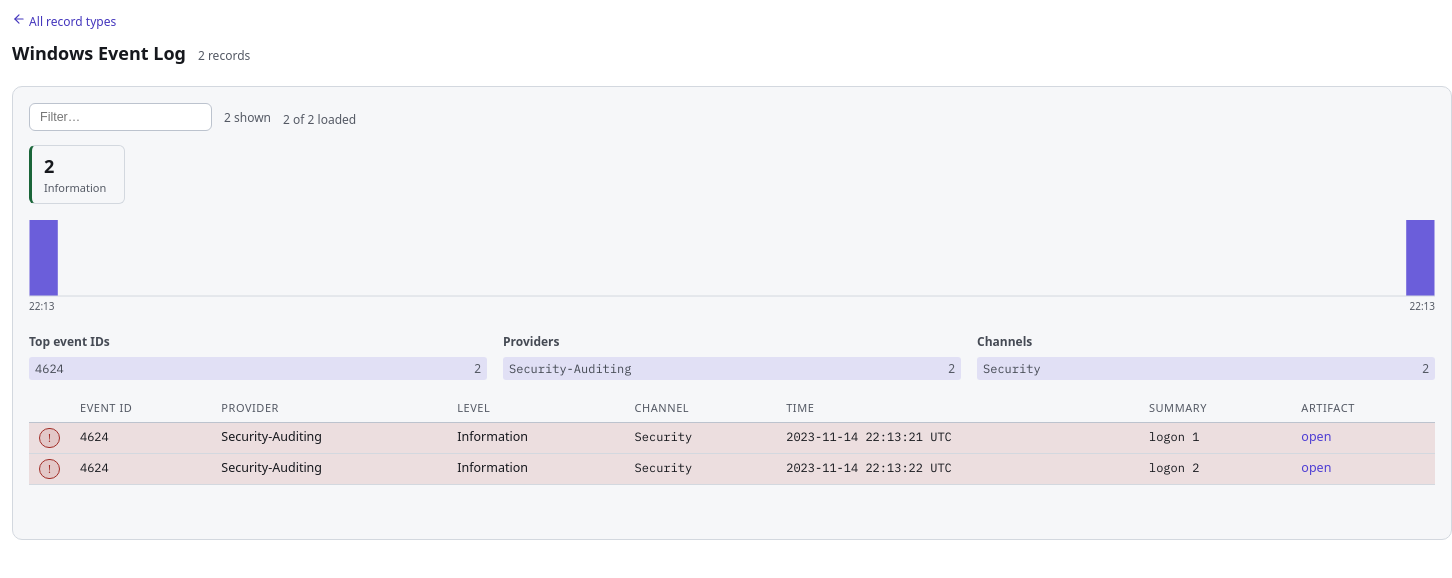
Test: rich record viewer: the Filter box queries the case › reports the records the filter could not be evaluated against
Type "logon" into the field named "Filter " at [120, 118], box [29,104,212,132]
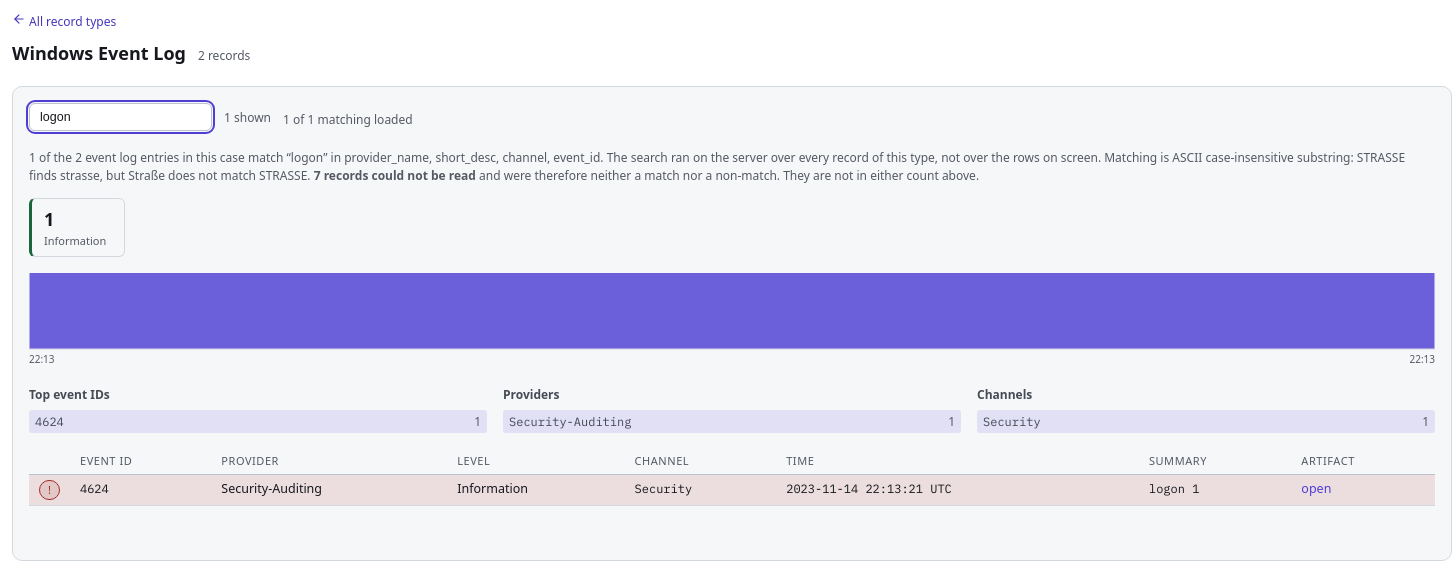
Expected: the element with test id "rv-search-scope" shows "7", [314,167,321,184]
Expected: the element with test id "rv-search-scope" shows "could not be read", [368,167,476,184]
